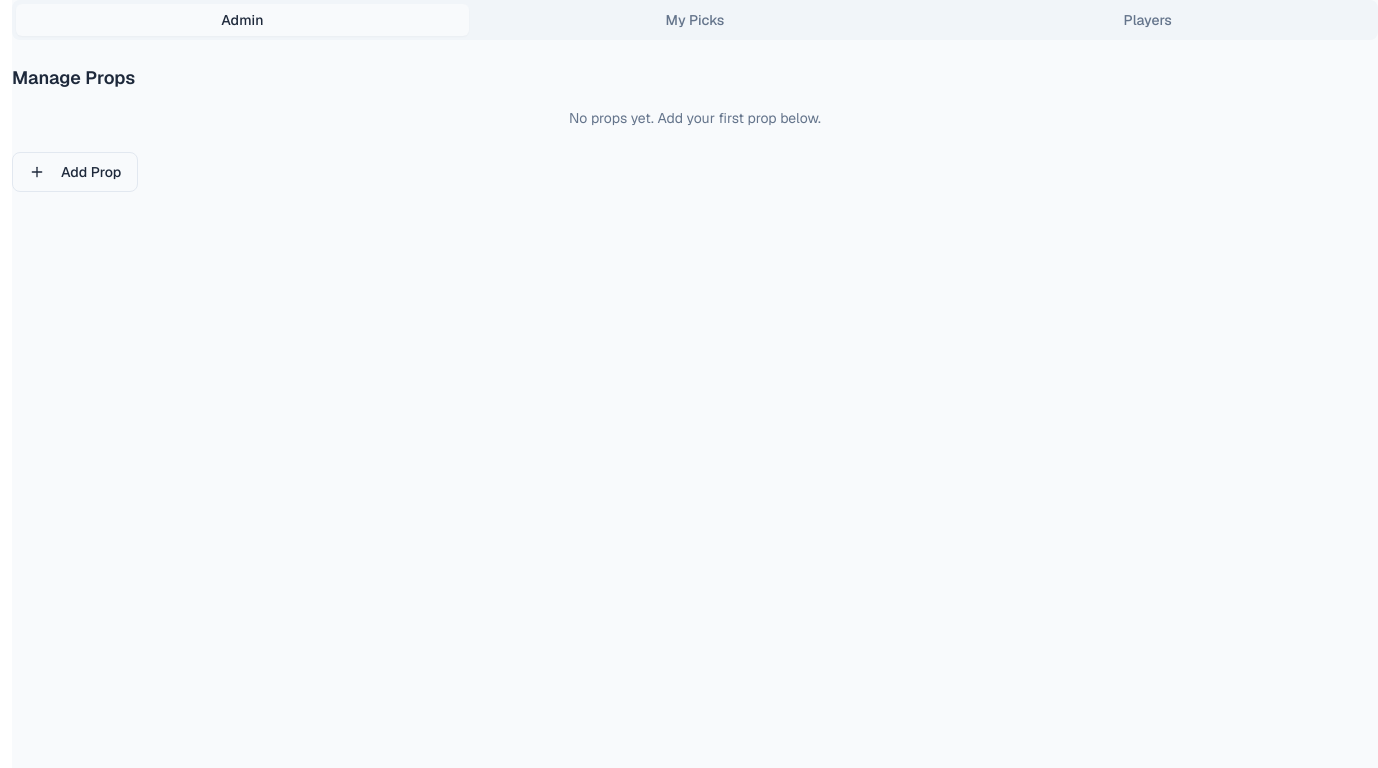
Test: CaptainTabsClient › Admin Tab › add prop form › form submission › shows error message on failed submission
Step 1. Click the button "Add Prop" → (75, 172), box [12, 152, 138, 192]
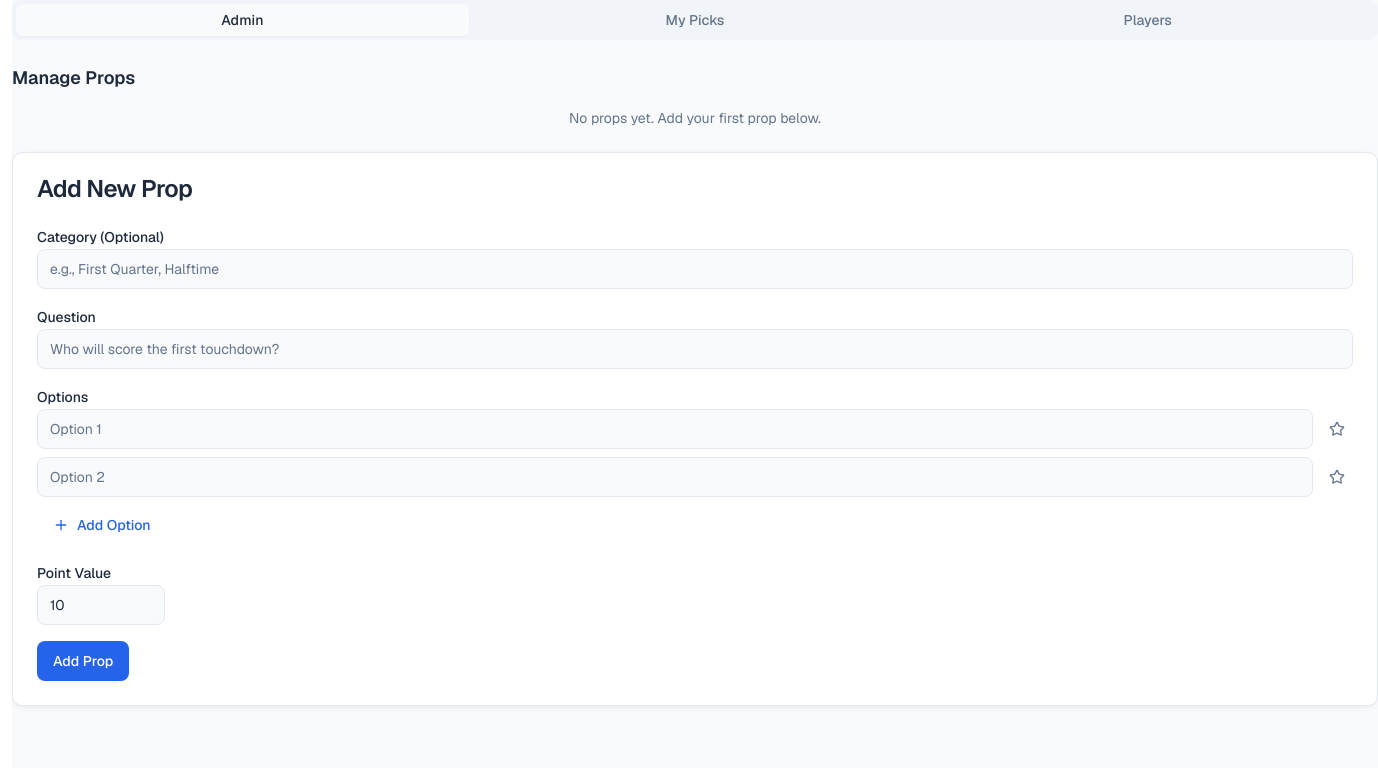
Step 2. Type "Test" into the field with placeholder "Who will score the first touchdown?" → (695, 349), box [37, 329, 1353, 369]
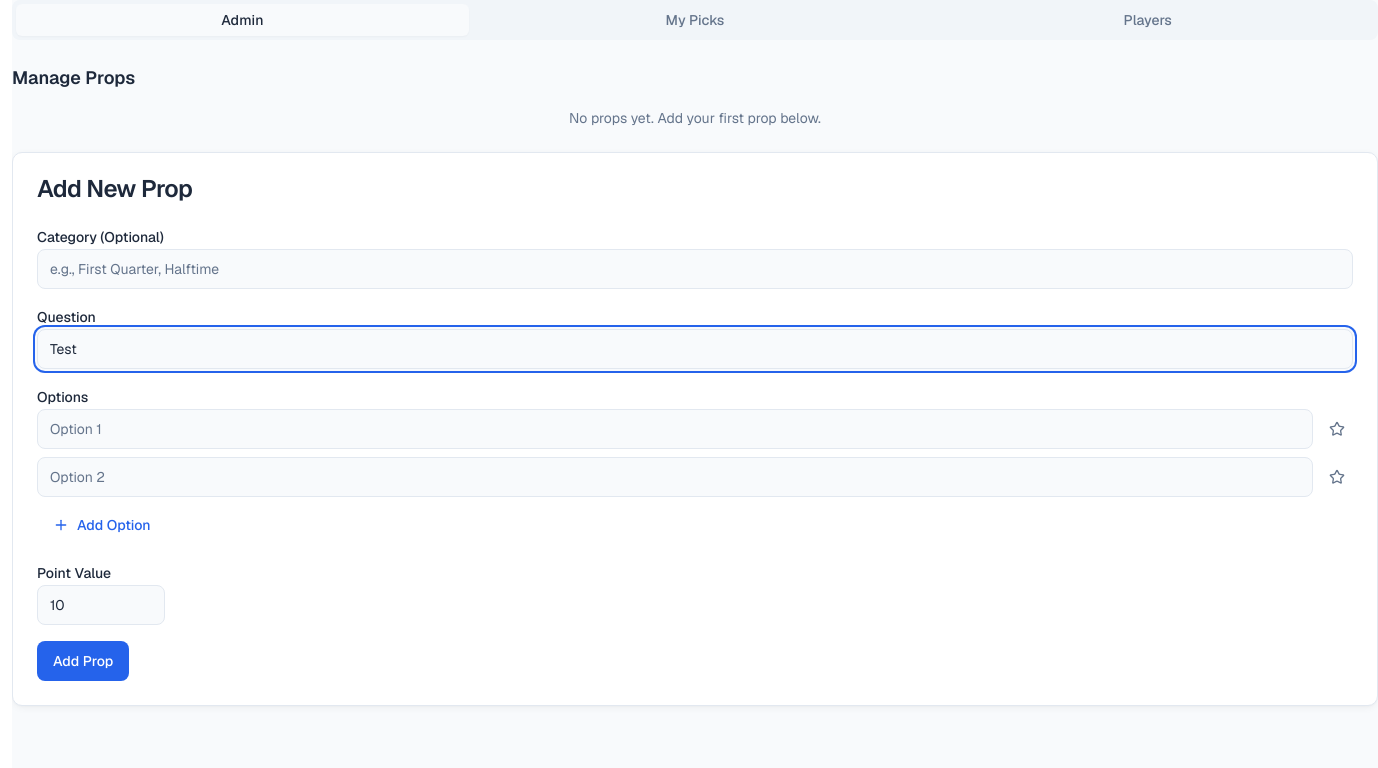
Step 3. Type "A" into the field with placeholder "Option 1" → (675, 429), box [37, 409, 1313, 449]
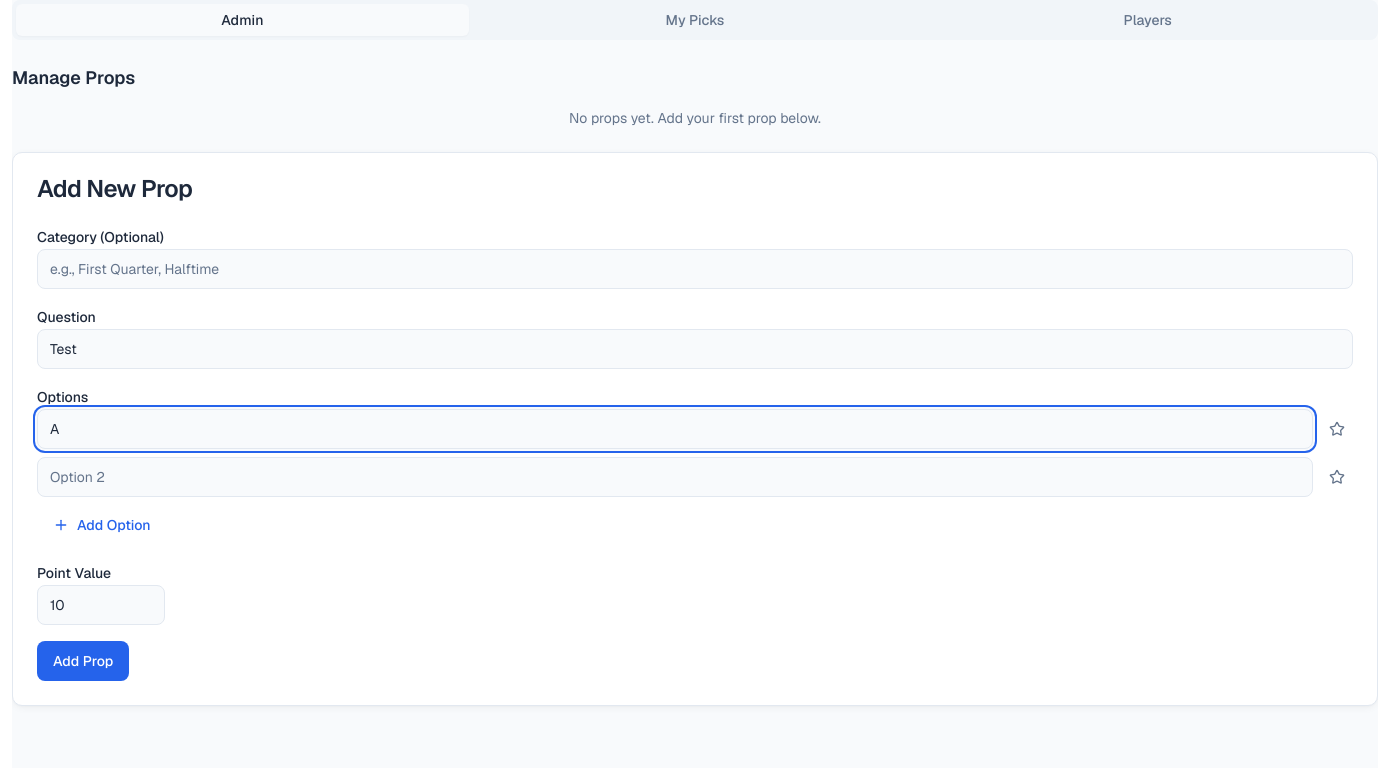
Step 4. Type "B" into the field with placeholder "Option 2" → (675, 477), box [37, 457, 1313, 497]
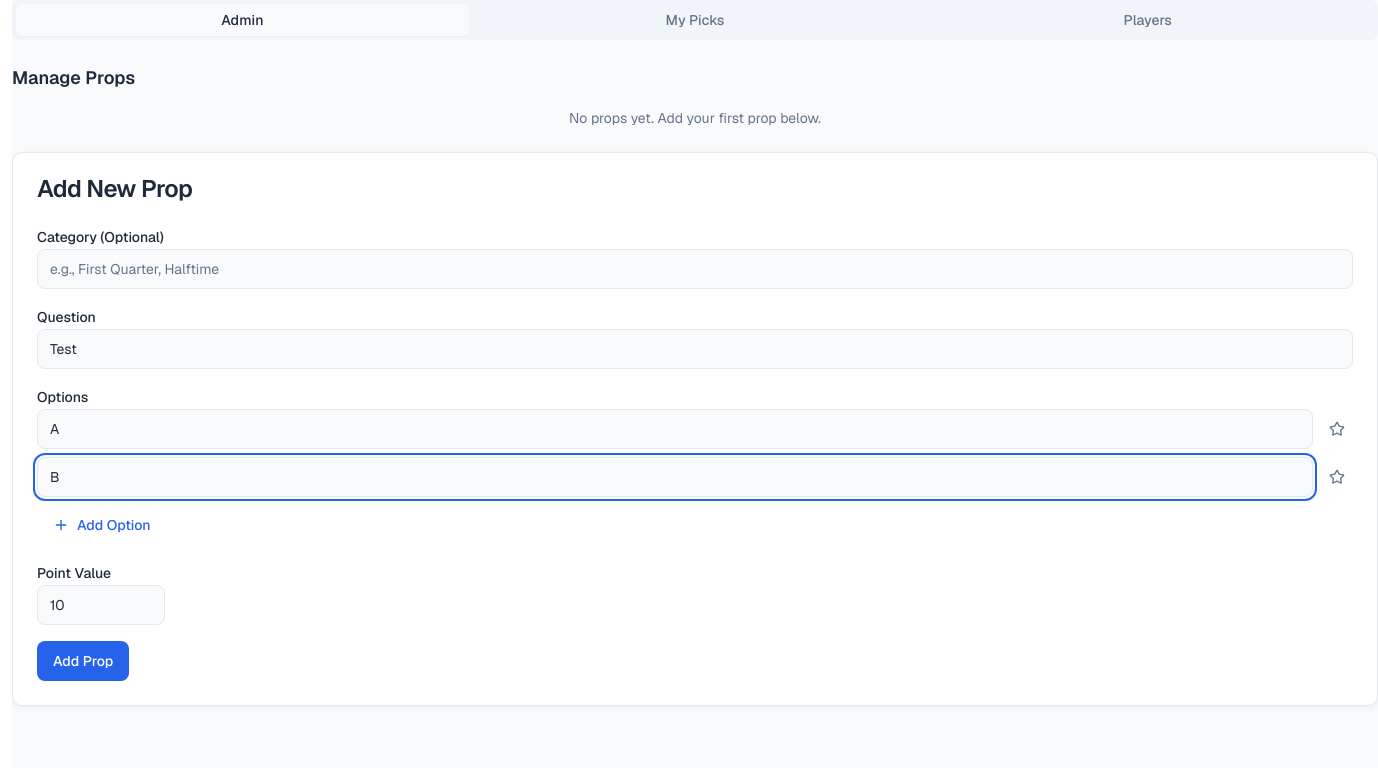
Step 5. Click the button "Add Prop" → (83, 661), box [37, 641, 129, 681]
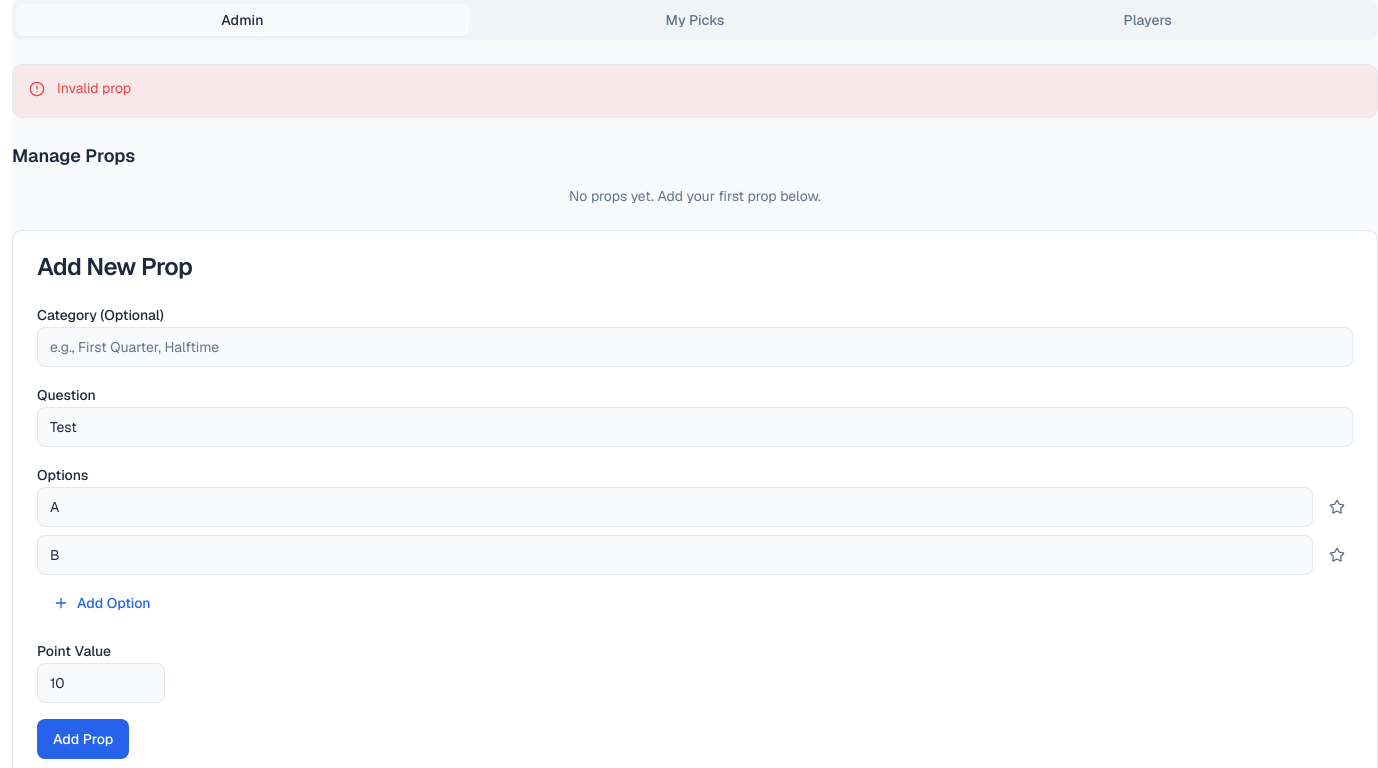
Now the text "Invalid prop" is shown, box [57, 79, 131, 97]
